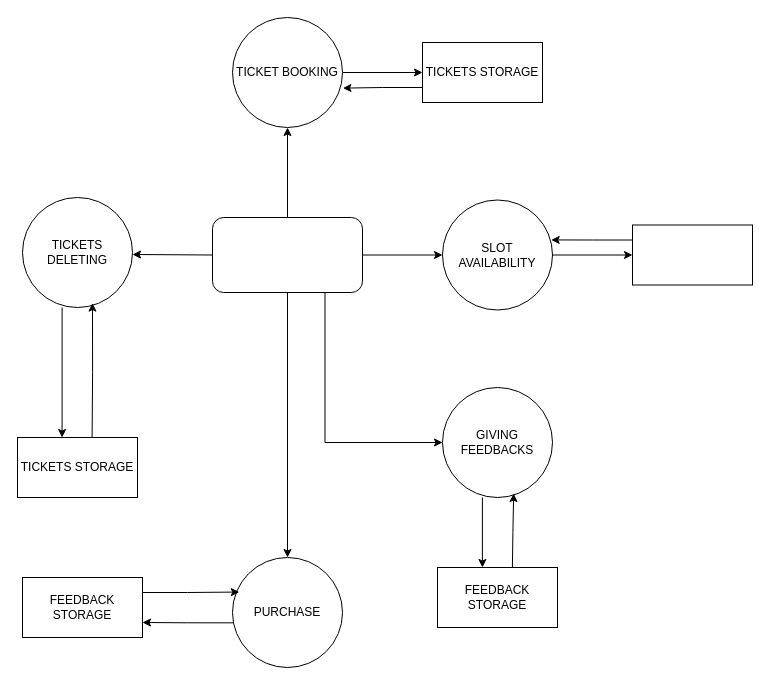
Some shapes in this 770 by 685 pixel diagram are drawn without their labels. Each missing label, with the centre of its shape:
SLOTS STORAGE: the point at 692,254
USERS: the point at 287,254
